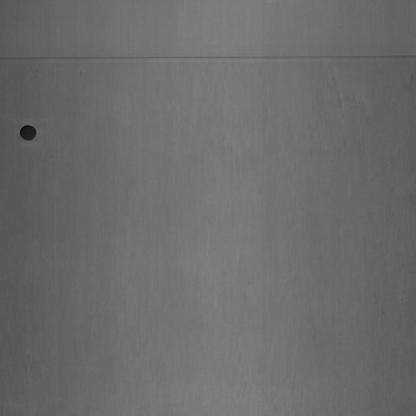punching_hole: (16, 118, 41, 146)
welding_line: (0, 44, 416, 72)
